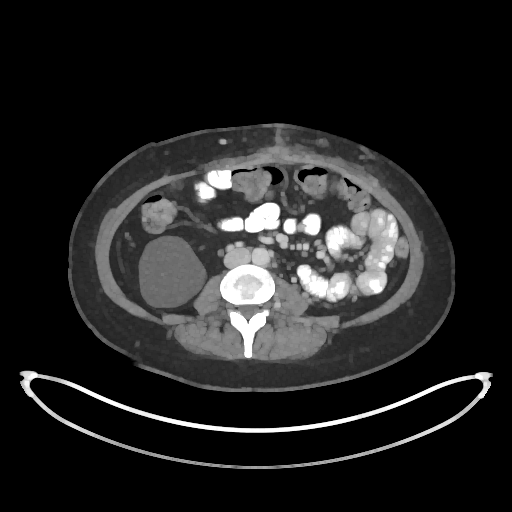Lesion: (133, 233, 209, 309)
